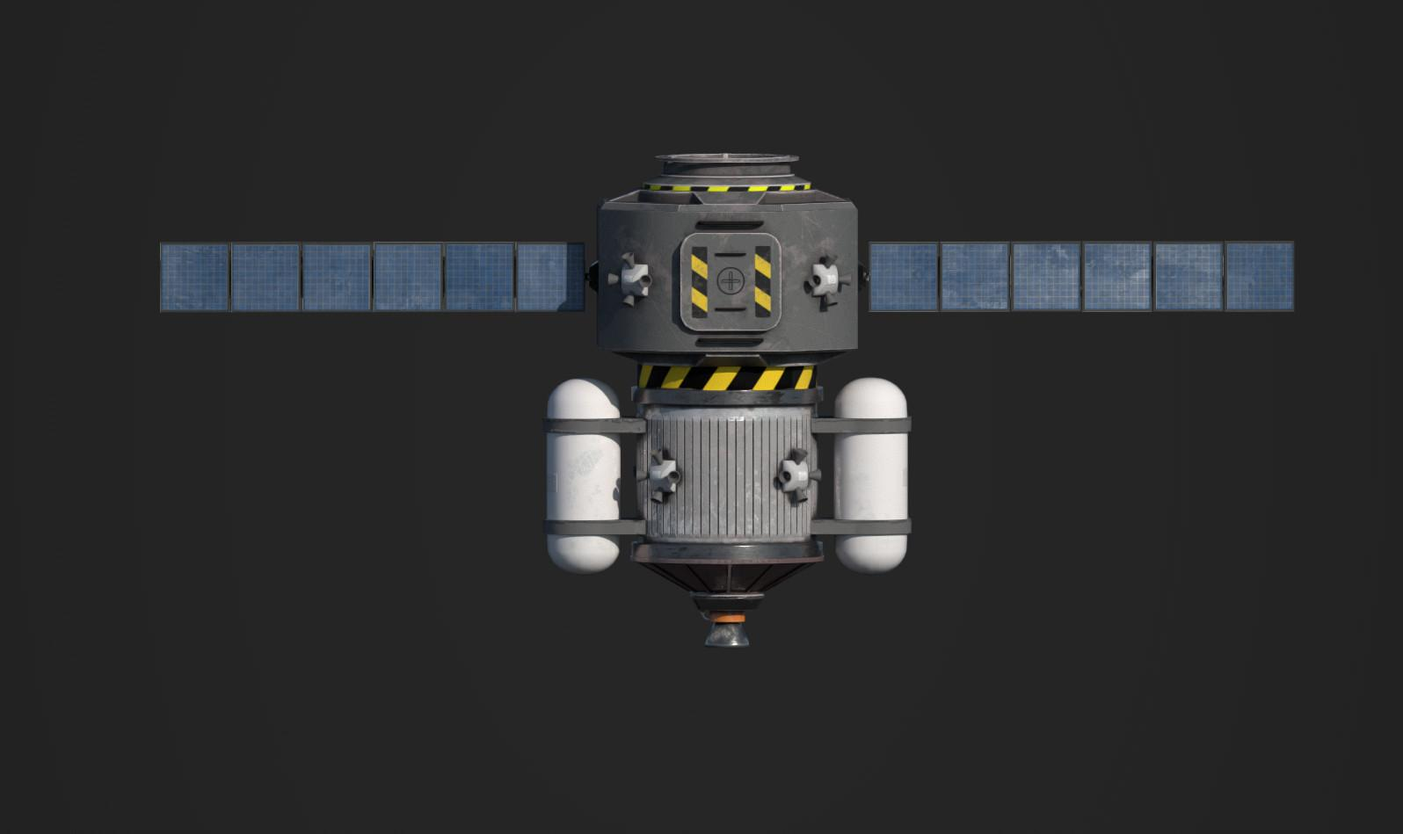body: (532, 151, 906, 606)
solar: (867, 238, 1299, 315), (157, 240, 589, 315)
thruster: (701, 620, 752, 652), (822, 291, 840, 314), (792, 486, 810, 507), (792, 446, 810, 466), (649, 486, 667, 505), (620, 250, 637, 270), (648, 446, 665, 466), (666, 468, 684, 486), (636, 273, 656, 289), (621, 289, 637, 309), (823, 250, 839, 269), (805, 468, 825, 483), (606, 272, 622, 289), (633, 468, 651, 483), (778, 469, 793, 485), (808, 273, 823, 288), (838, 272, 854, 286)
